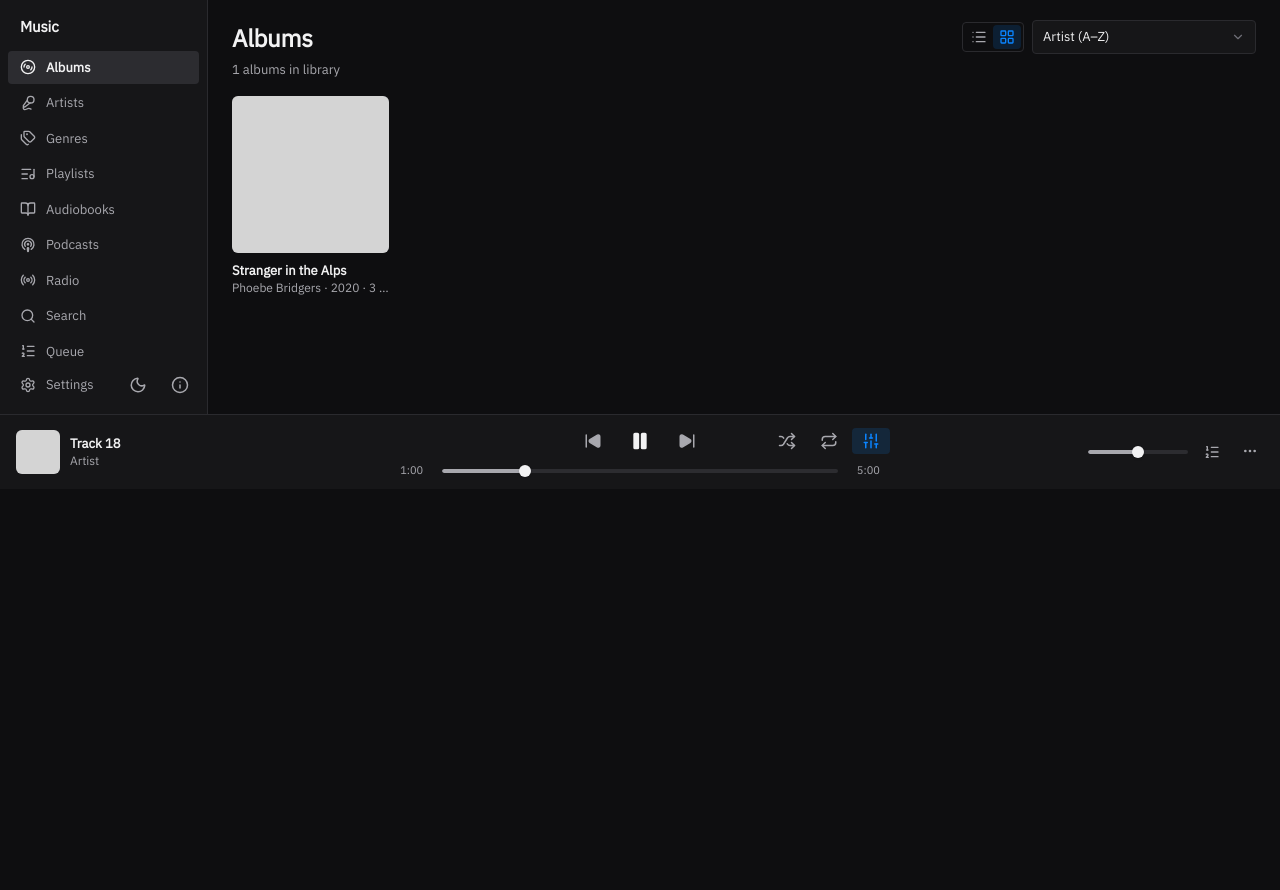
App: navigation › navigates with the sidebar and shows the matching view
Click the button "Artists" at (104, 103), box [8,86,199,120]
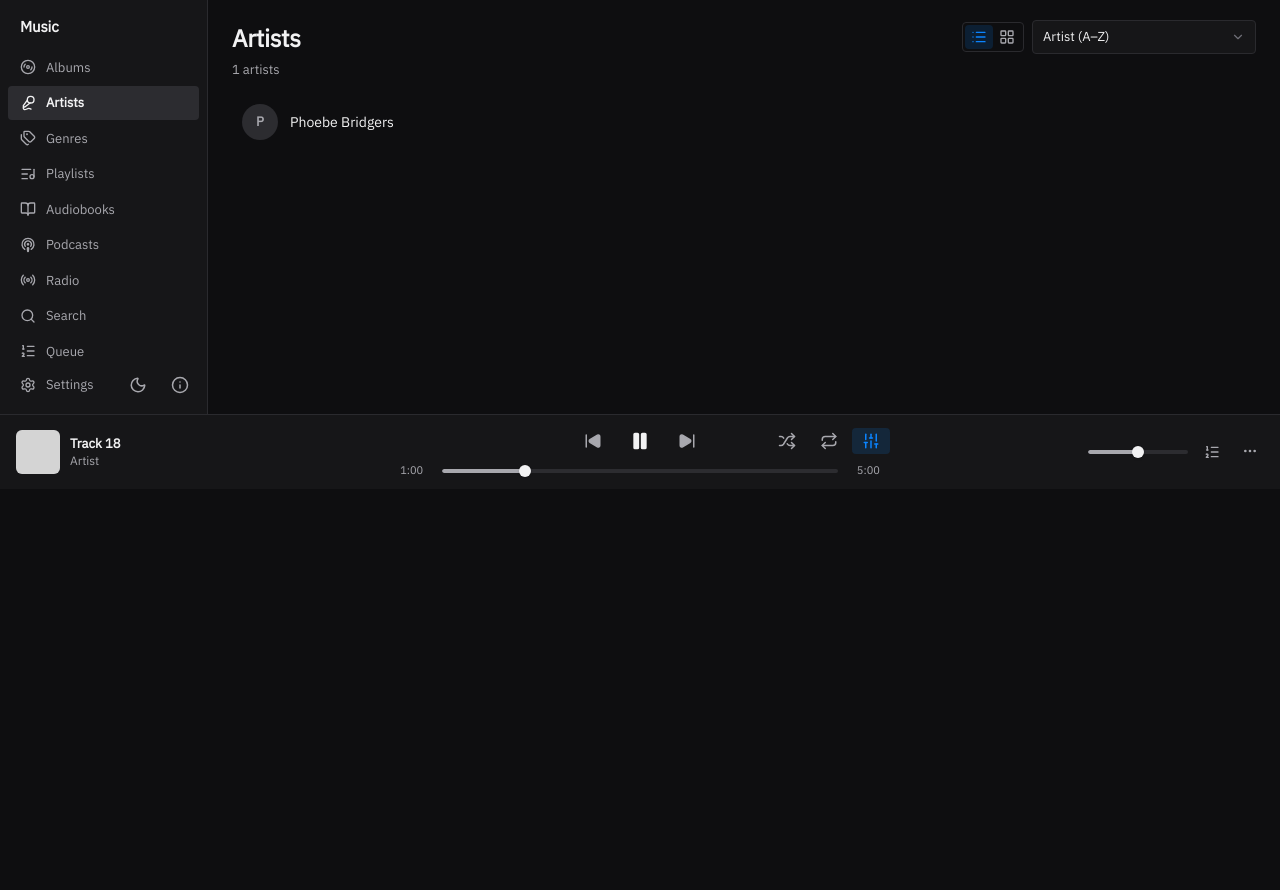
Check: the heading "Artists" is shown, box [232,20,301,56]
Click the button "Playlists" at (104, 174), box [8,157,199,190]
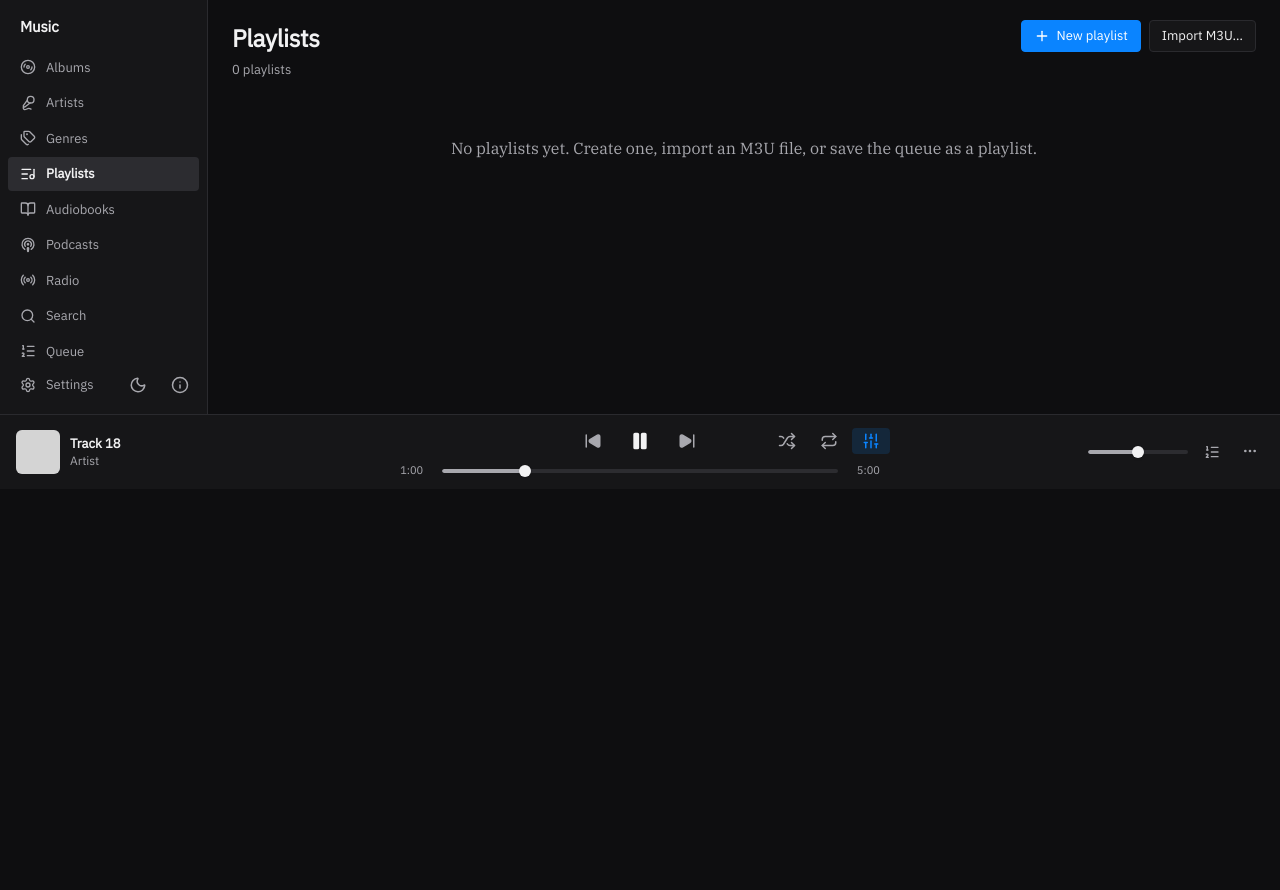
Check: the heading "Playlists" is shown, box [232,20,320,56]
Click the button "Queue" at (104, 351), box [8,334,199,368]
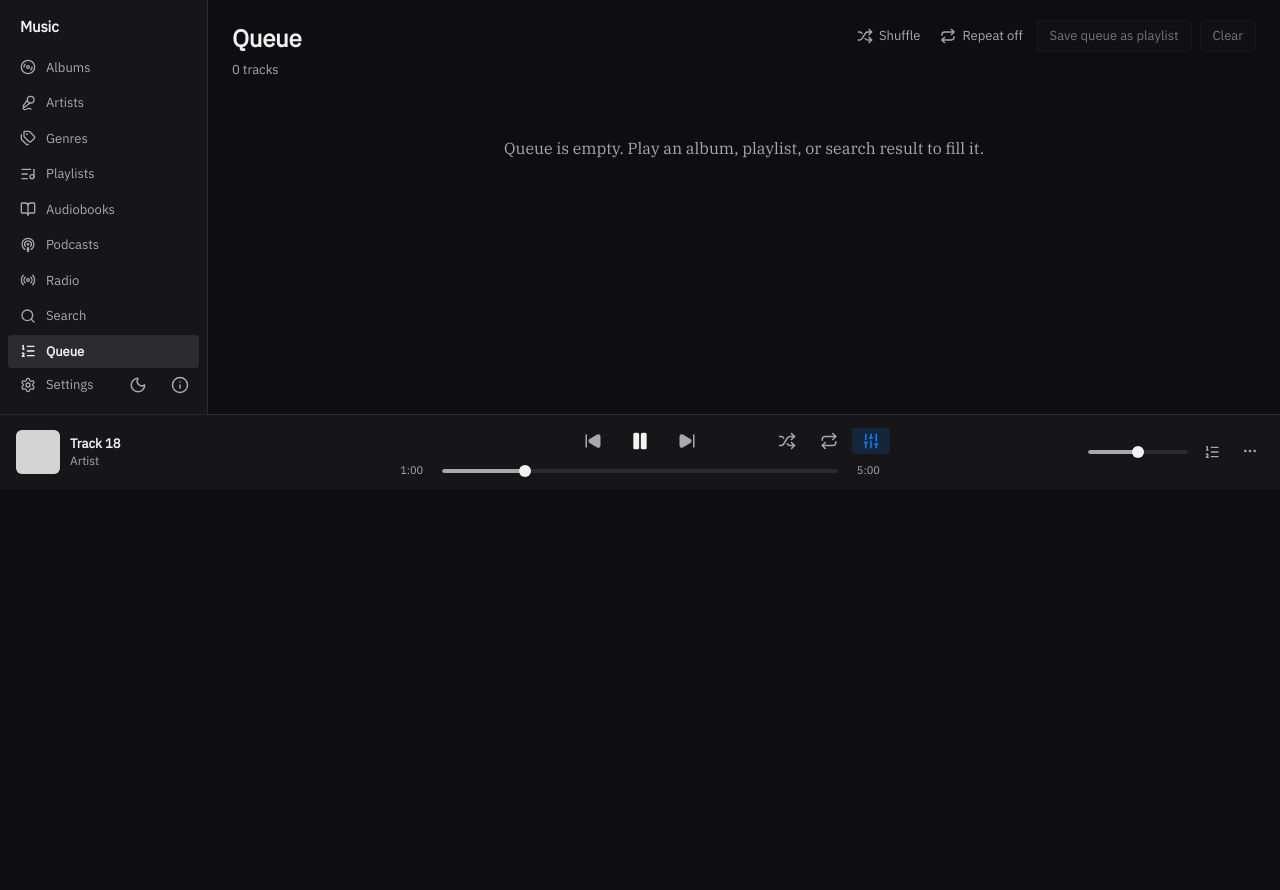
Check: the heading "Queue" is shown, box [232,20,301,56]
Click the button "Search" at (104, 316), box [8,299,199,332]
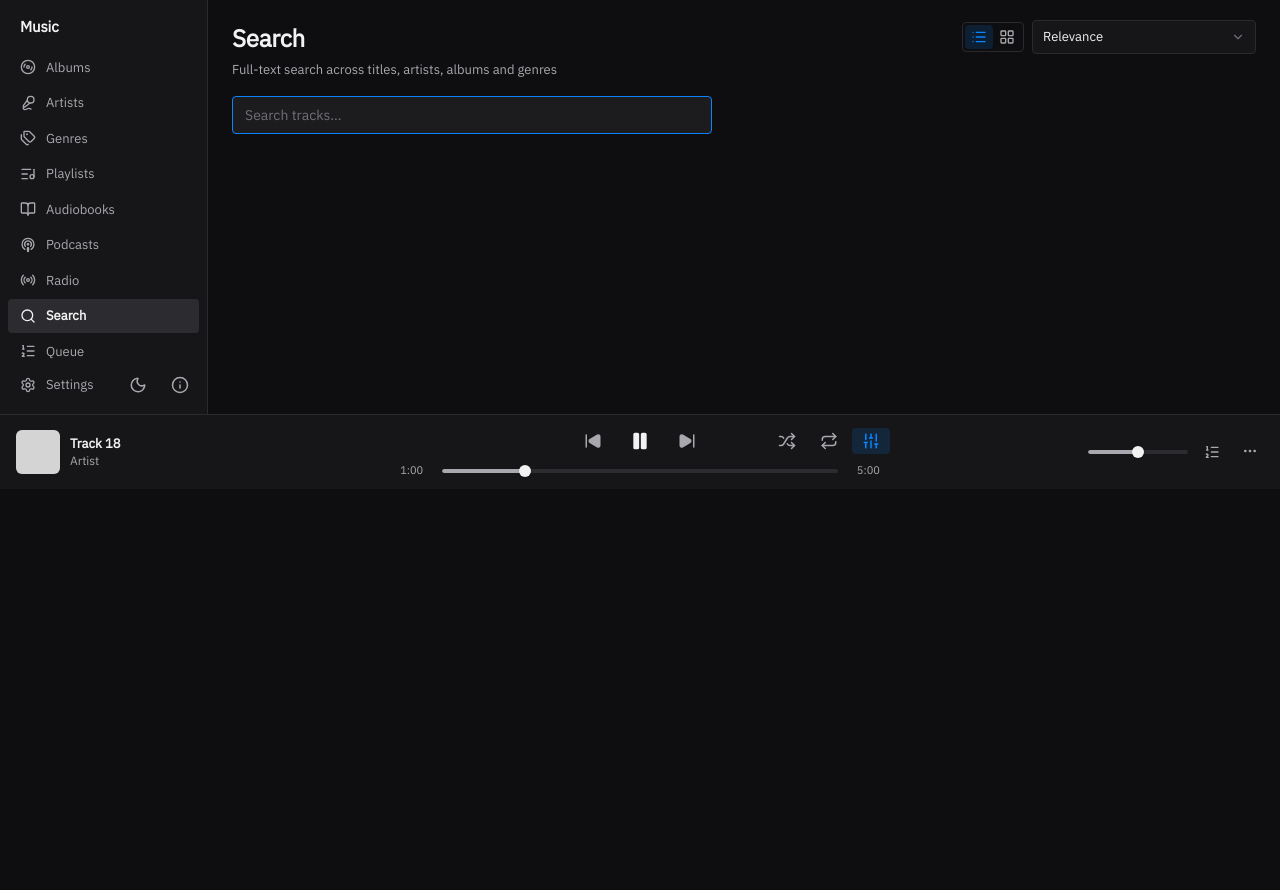
Check: the heading "Search" is shown, box [232,22,305,54]
Click the button "Albums" at (104, 67), box [8,50,199,84]
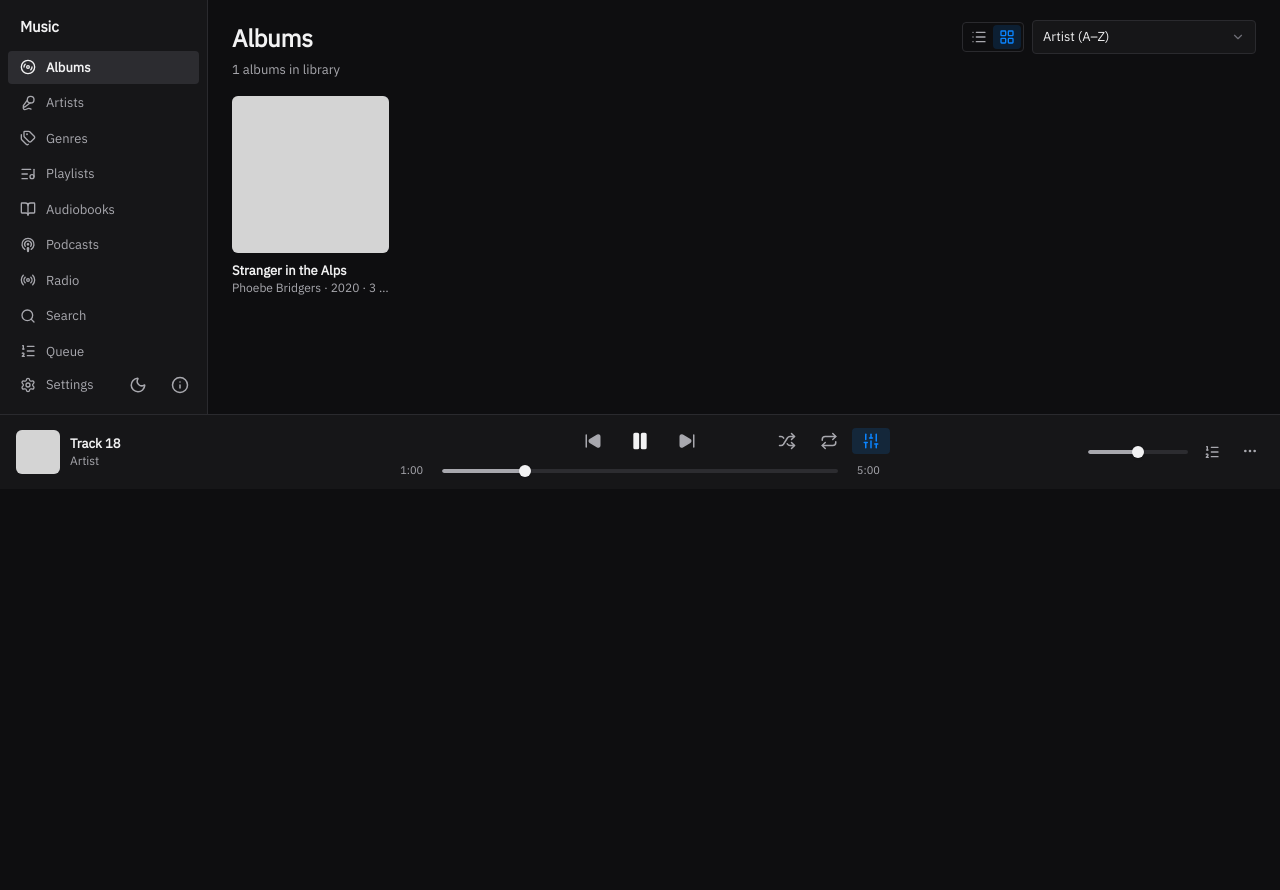
Check: the heading "Albums" is shown, box [232,22,313,54]
Click the button "Settings" at (62, 385), box [8,368,115,402]
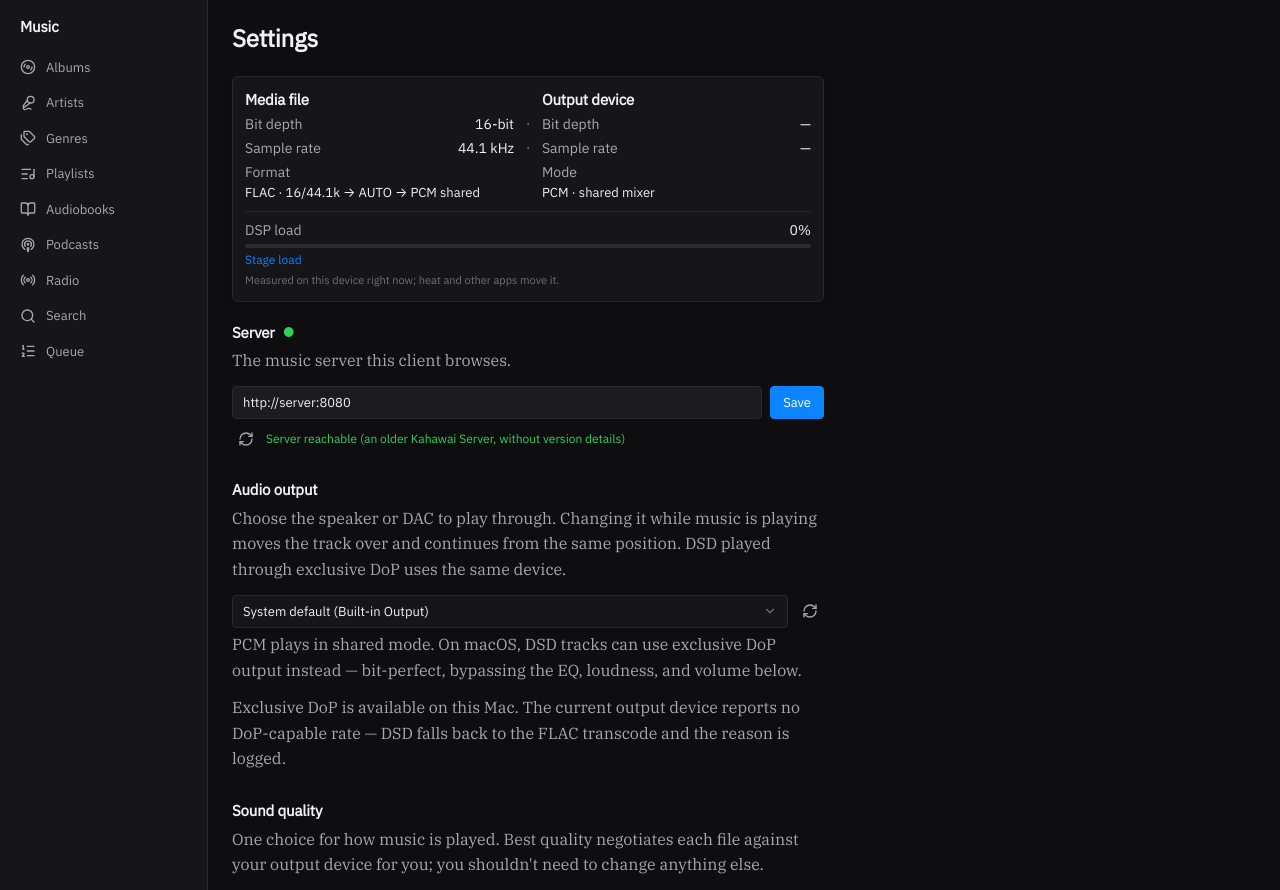
Check: the heading "Settings" is shown, box [232,20,318,56]
